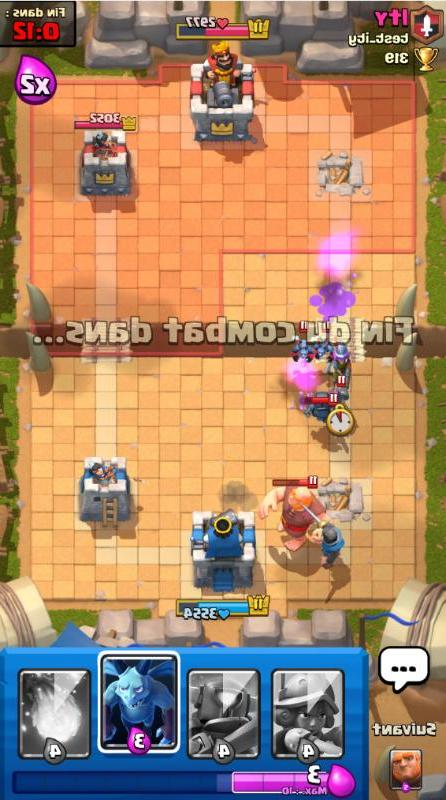chevalier: (299, 501, 345, 570)
gargouille: (290, 320, 315, 363), (314, 321, 334, 362)
geant: (259, 474, 334, 552)
mini_PEKKA: (304, 391, 339, 422)
mousquetaire: (333, 336, 352, 401)
